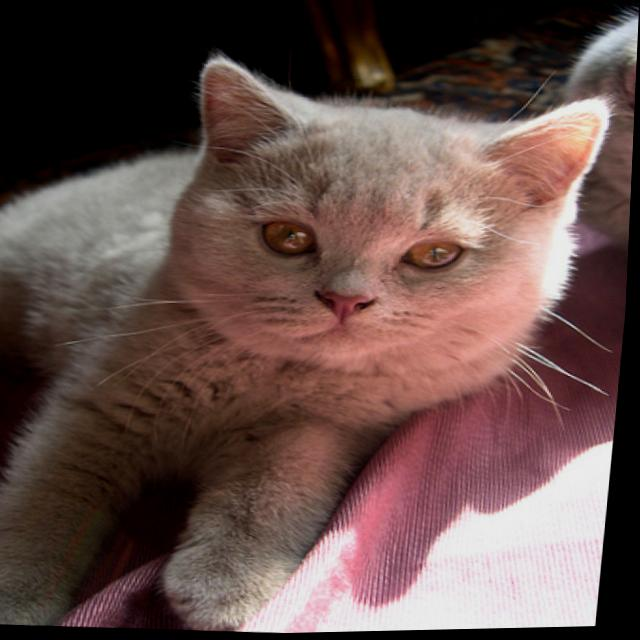British Shorthair: (0, 37, 625, 640)
